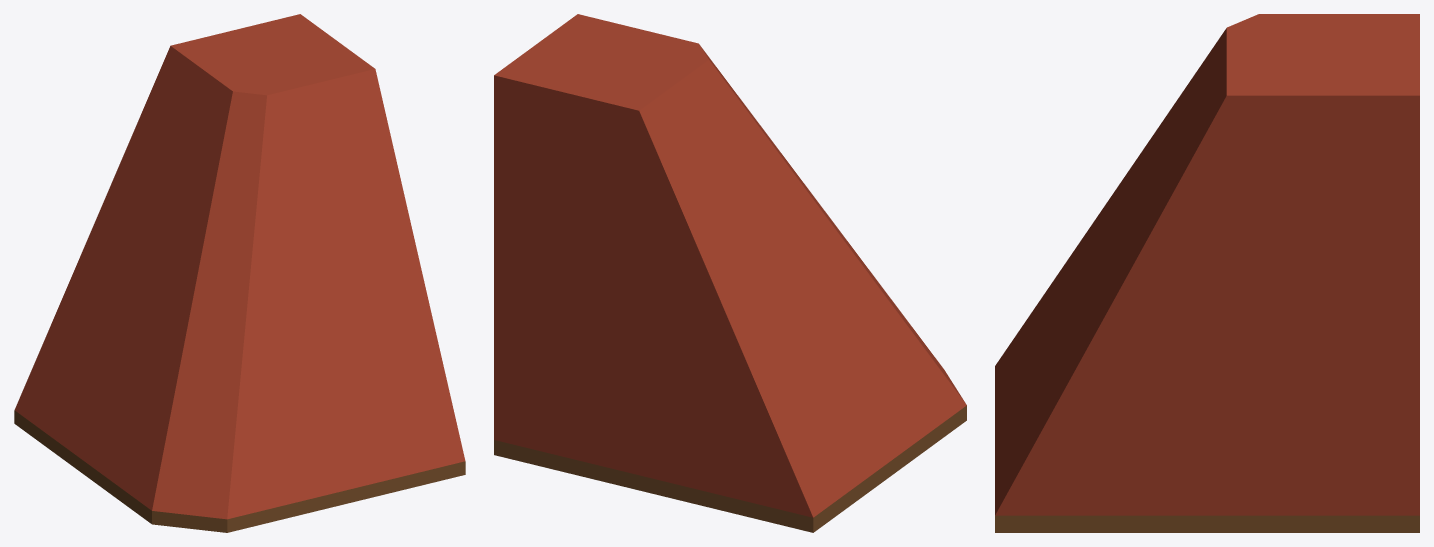
File: Wieza_Dach.fbx
3 renders of one model, left to right at view 1: azimuth 30°, elevation 25°; view 2: azimuth 150°, elevation 25°; view 3: azimuth 270°, elevation 25°, orthographic. The views are drawn at different scales.
Parts seen in each view (by area): view 1: Wieza_Dach; view 2: Wieza_Dach; view 3: Wieza_Dach.
Part boxes in pixels (x1,y1,x2,y2): Wieza_Dach: [14, 14, 465, 532]; Wieza_Dach: [494, 14, 966, 532]; Wieza_Dach: [995, 14, 1419, 532].
Bounding box in the file's own units: 3.3 × 3.75 × 3.3.
